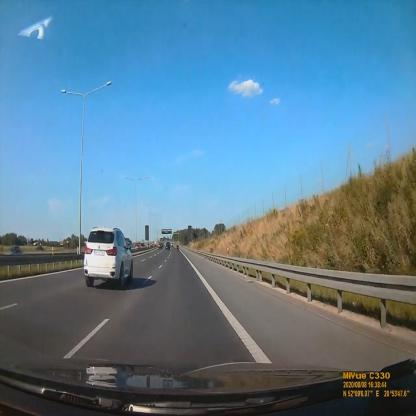cars: (84, 228, 134, 286)
